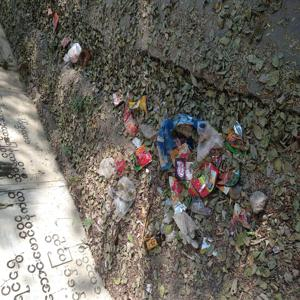glass: (140, 231, 172, 254)
metal: (225, 118, 244, 141)
plastic: (154, 112, 193, 174), (108, 81, 158, 119), (104, 163, 137, 220), (182, 160, 225, 200), (191, 120, 226, 164), (58, 37, 94, 76), (174, 206, 206, 247), (189, 157, 216, 204), (117, 102, 145, 145), (170, 143, 197, 184), (130, 142, 158, 174), (95, 155, 127, 177), (170, 181, 188, 205), (174, 156, 189, 181)
